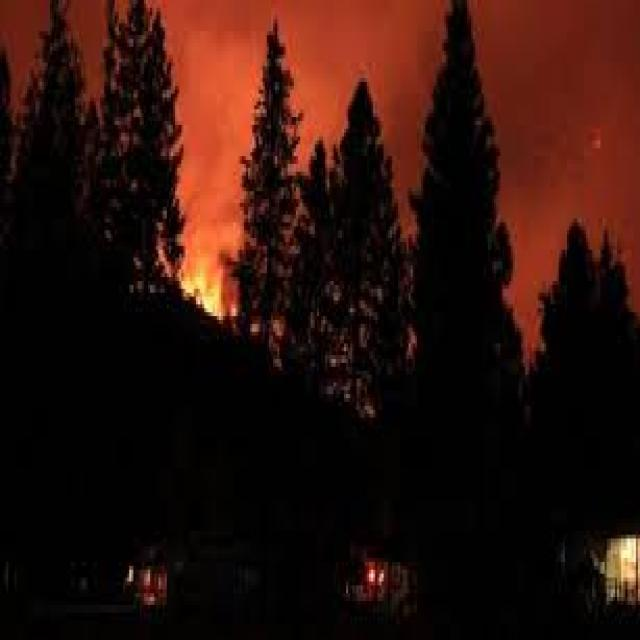Fire: (174, 246, 234, 322), (360, 553, 393, 602), (133, 564, 162, 598)
Smoke: (162, 4, 366, 250)
